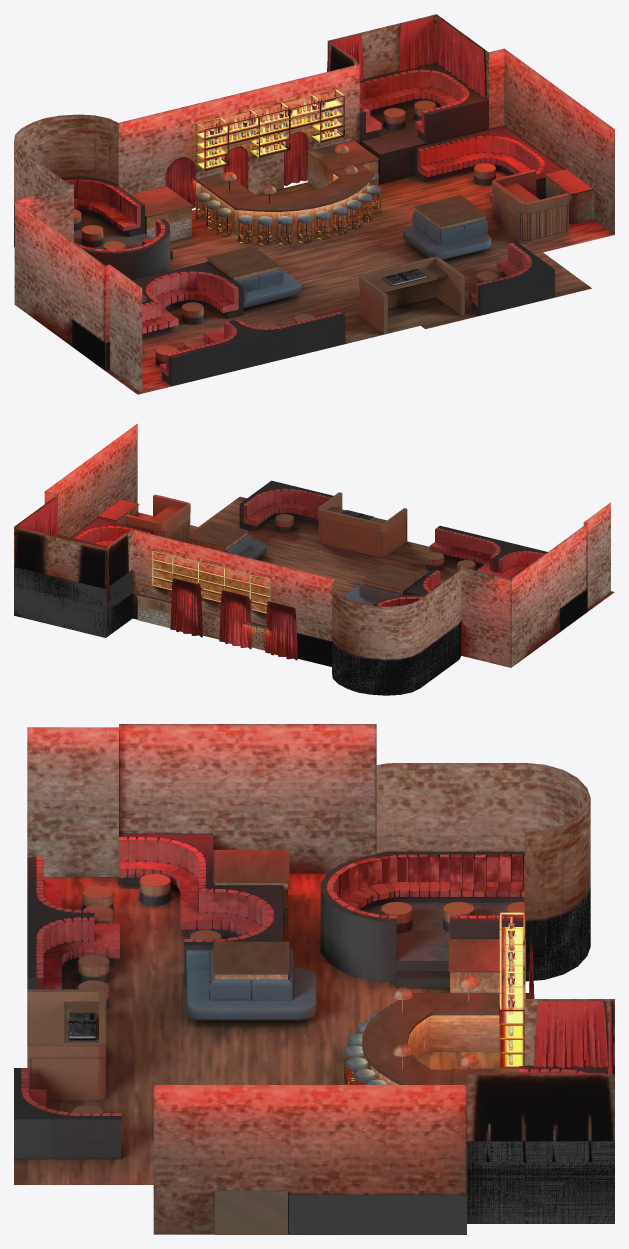
The model's file is Laisses Faire Baked.glb.
3 renders of one model, top to bottom at view 1: azimuth 30°, elevation 25°; view 2: azimuth 150°, elevation 25°; view 3: azimuth 270°, elevation 25°, orthographic. The views are drawn at different scales.
Parts seen in each view (by area): view 1: Plane_Baked; view 2: Plane_Baked; view 3: Plane_Baked, Plane_Baked.004, Plane_Baked.005, Plane_Baked.012.
Boxes of the visible parts, x1,y1,x2,y2 form: Plane_Baked: [14, 14, 614, 394]; Plane_Baked: [14, 423, 614, 695]; Plane_Baked: [14, 724, 614, 1234]; Plane_Baked.004: [139, 874, 170, 905]; Plane_Baked.005: [78, 954, 109, 982]; Plane_Baked.012: [381, 902, 412, 933].
Bounding box in the file's own units: 17.96 × 3.48 × 12.63.
1 material, 1 textured.
